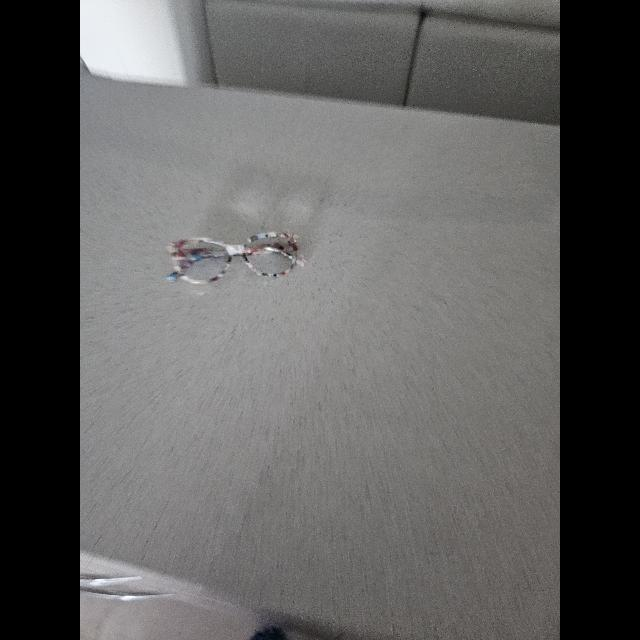glasses: (167, 232, 306, 284)
